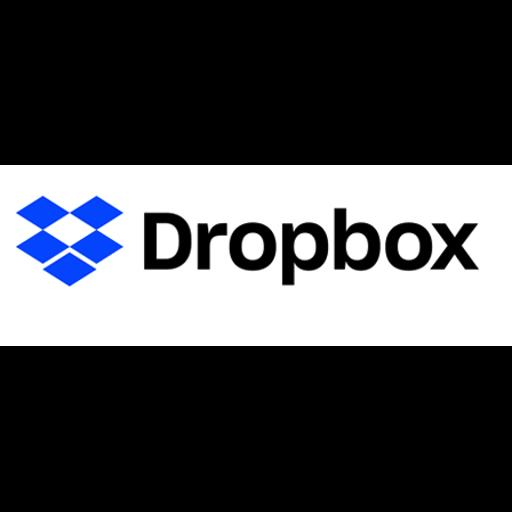Dropbox: (0, 165, 512, 346)
